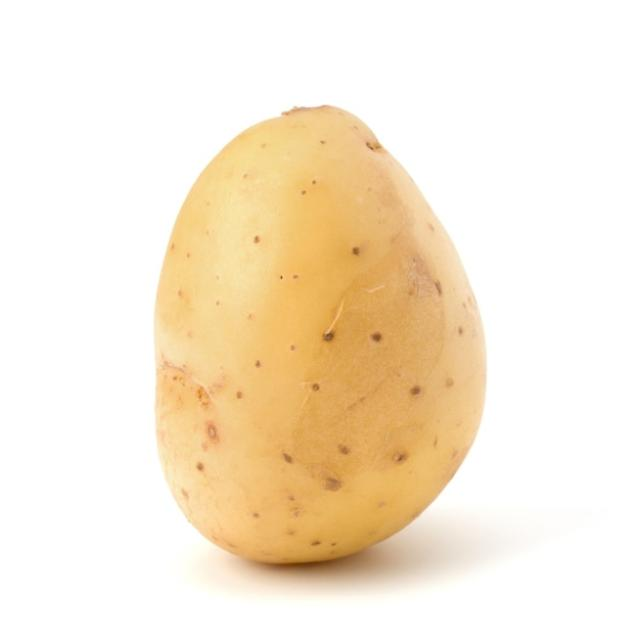Potato: (156, 75, 490, 579)
